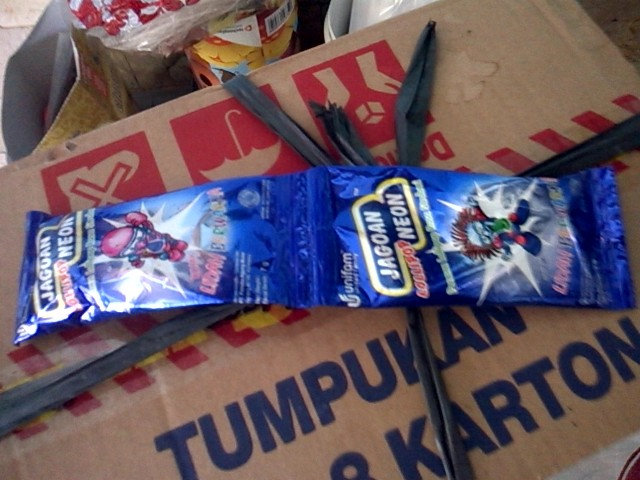jagoan neon: (16, 169, 304, 346), (304, 164, 636, 310)
